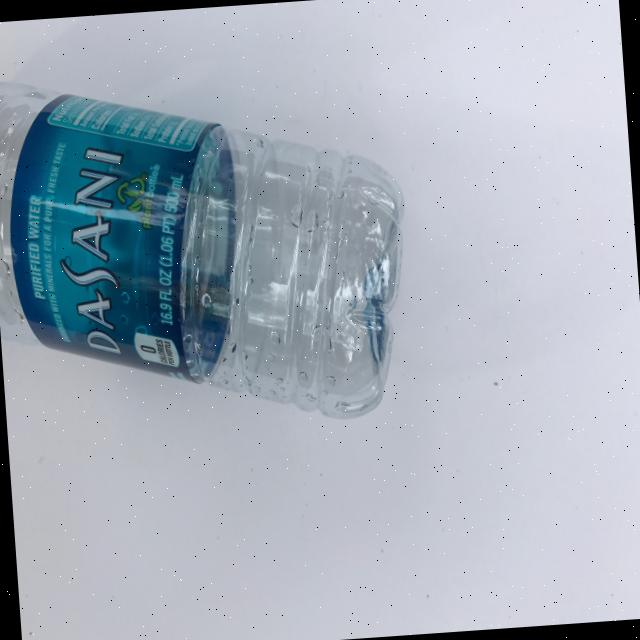plastic: (0, 51, 418, 442)
